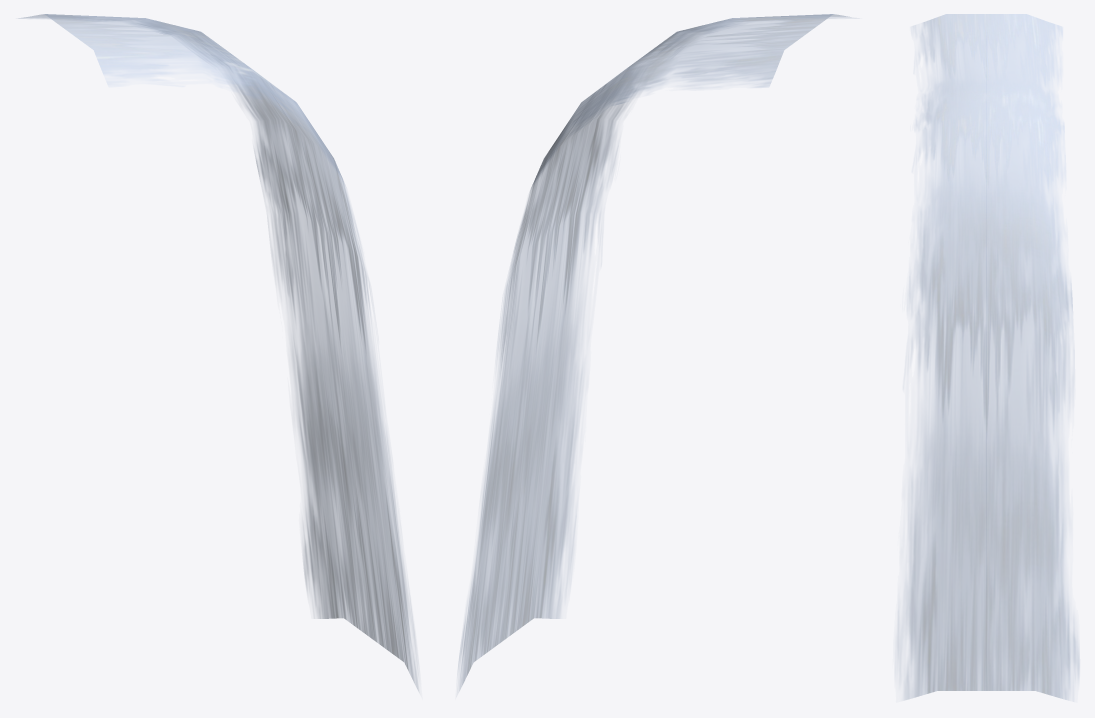
File: oa_ho_waterfall01_01-1.glb
3 renders of one model, left to right at view 1: azimuth 30°, elevation 25°; view 2: azimuth 150°, elevation 25°; view 3: azimuth 270°, elevation 25°, orthographic. The views are drawn at different scales.
Parts seen in each view (by area): view 1: oa_ho_waterfall01_01; view 2: oa_ho_waterfall01_01; view 3: oa_ho_waterfall01_01.
Part boxes in pixels (x1,y1,x2,y2): oa_ho_waterfall01_01: (18,14,418,690); oa_ho_waterfall01_01: (458,14,851,690); oa_ho_waterfall01_01: (897,14,1079,699).
Size of the model in its own units: 18.21 by 39.09 by 11.71.
Materials: 1 (1 with a texture image).
